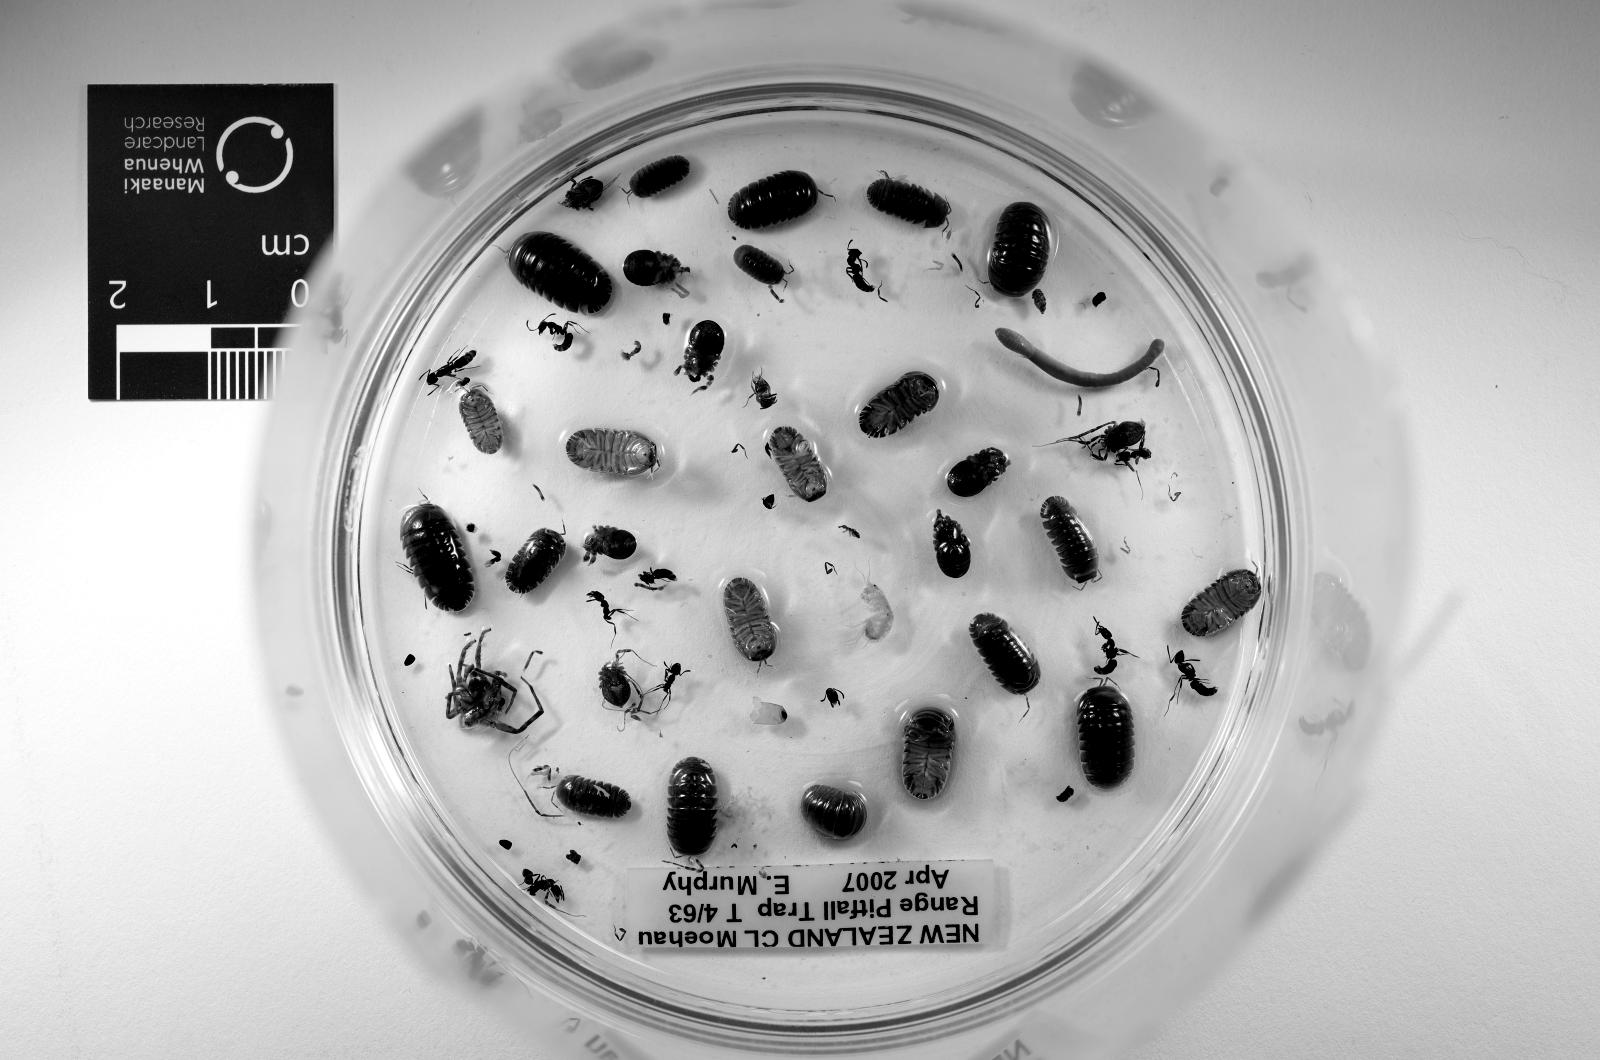amphipoda: (862, 584, 894, 643)
annelida: (997, 329, 1166, 388)
araneae: (447, 627, 544, 736)
collembola: (838, 525, 862, 540)
formicidae: (1169, 649, 1219, 699), (1094, 618, 1131, 677), (422, 348, 475, 388), (588, 590, 628, 634), (534, 317, 578, 351), (522, 870, 566, 904), (847, 248, 875, 292), (634, 568, 678, 590), (659, 661, 684, 699), (1116, 444, 1153, 469), (753, 376, 778, 410)
isopoda: (506, 233, 612, 314), (400, 500, 475, 612), (969, 612, 1041, 696), (988, 202, 1053, 295), (1078, 683, 1134, 789), (728, 171, 819, 230), (1041, 497, 1100, 587), (666, 758, 719, 857), (1181, 571, 1259, 637), (859, 373, 938, 438), (903, 708, 956, 801), (722, 578, 775, 665), (766, 425, 825, 503), (866, 177, 950, 227), (566, 429, 656, 475), (506, 528, 566, 593), (800, 786, 866, 838), (556, 776, 631, 817), (459, 385, 503, 453), (628, 155, 691, 199), (734, 245, 788, 286)
opiliones: (675, 320, 725, 391), (1062, 422, 1147, 460), (947, 447, 1009, 497), (600, 649, 644, 717), (622, 248, 691, 286), (934, 509, 972, 578), (584, 525, 638, 562), (562, 177, 603, 211)
